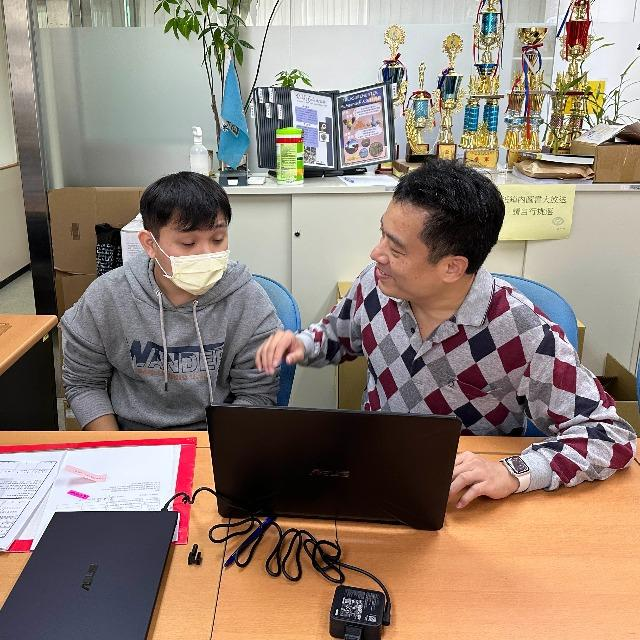NoHelmet: (368, 159, 505, 297), (135, 169, 231, 295)
